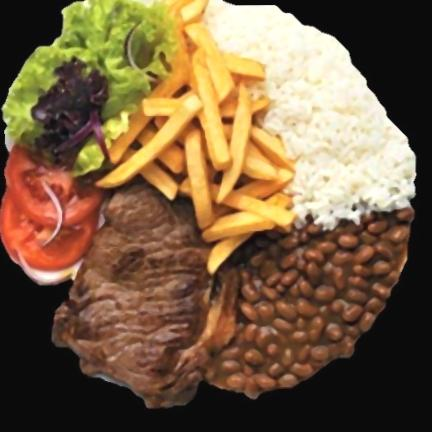beans: (208, 210, 413, 397)
meat: (52, 180, 238, 407)
potato: (97, 0, 295, 274)
rice: (203, 0, 416, 228)
salad: (3, 0, 177, 174)
tomato: (1, 146, 104, 271)
